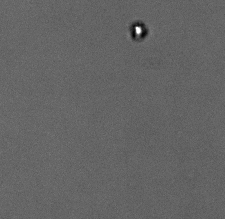Living Cell: (130, 22, 147, 40)
